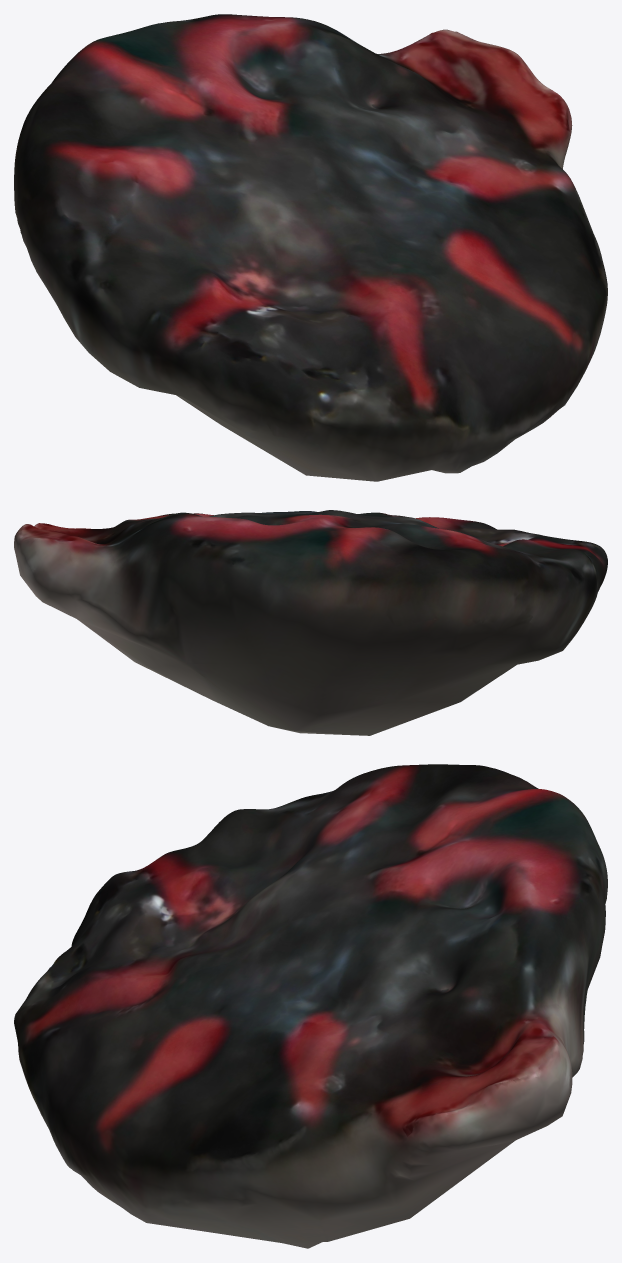
The picture shows the model from 3 angles, top to bottom: view 1: azimuth 30°, elevation 25°; view 2: azimuth 150°, elevation 25°; view 3: azimuth 270°, elevation 25°; orthographic projection. The views are drawn at different scales.
Bounding box in the file's own units: 0.3181 × 0.1828 × 0.274.
Materials: 1 (1 with a texture image).
